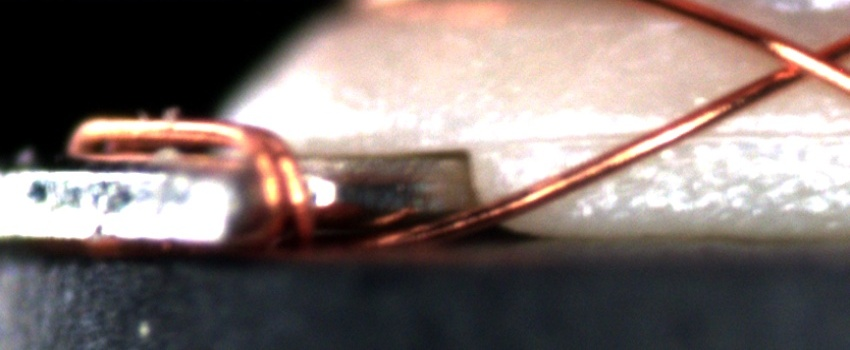CL: (759, 28, 848, 92)
DL: (508, 105, 850, 171)
TE: (66, 105, 329, 243)
